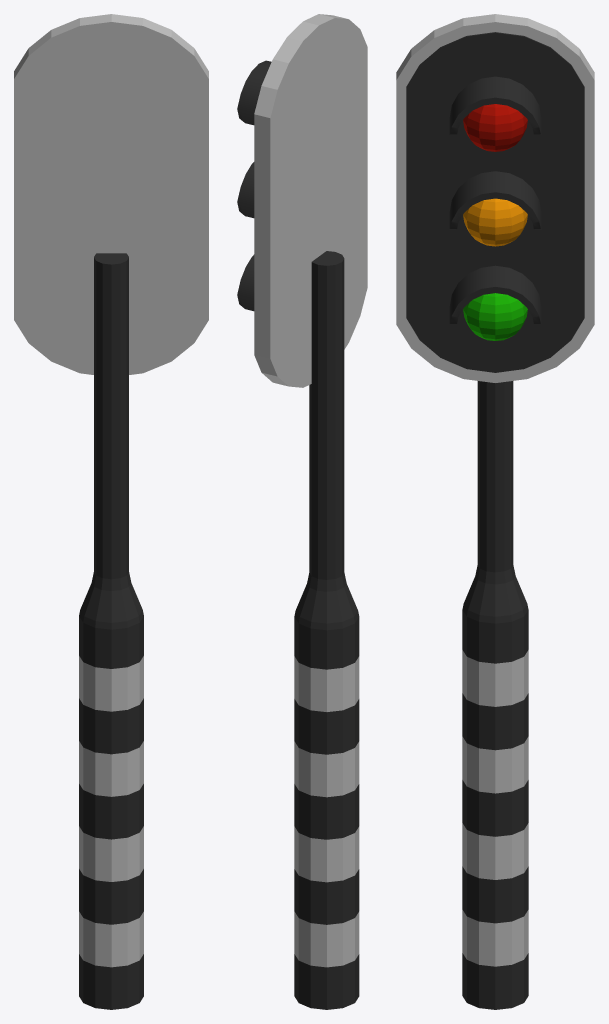
The model's file is Stoplicht.fbx.
3 views of the same model, side by side, from view 1: azimuth 90°, elevation 25°; view 2: azimuth 150°, elevation 25°; view 3: azimuth 270°, elevation 25° (orthographic).
Parts seen in each view (by area): view 1: pCylinder10, pCylinder9, pCylinder3, pCylinder7, pCylinder5, pCylinder1, pCylinder2, pCylinder6, pCylinder8, pCylinder4; view 2: pCylinder10, pCylinder9, pCylinder7, pCylinder2, pCylinder4, pCylinder1, pCylinder5, pCylinder3, pCylinder8, pCylinder6, pCylinder16, pCylinder14 (+1 smaller); view 3: pCylinder11, pCylinder9, pCylinder10, pCylinder6, pCylinder3, pCylinder4, pCylinder1, pCylinder8, pCylinder7, pCylinder2, pCylinder5, pCylinder15 (+5 smaller).
Boxes of the visible parts, box(x1,y1,x2,y2) form: pCylinder10: box(14, 14, 208, 374); pCylinder9: box(79, 253, 143, 668); pCylinder3: box(79, 869, 143, 924); pCylinder7: box(79, 698, 143, 754); pCylinder5: box(79, 784, 143, 839); pCylinder1: box(79, 954, 143, 1009); pCylinder2: box(79, 911, 143, 967); pCylinder6: box(79, 741, 143, 796); pCylinder8: box(79, 656, 143, 711); pCylinder4: box(79, 826, 143, 881); pCylinder10: box(254, 14, 367, 387); pCylinder9: box(294, 251, 359, 669); pCylinder7: box(294, 699, 359, 754); pCylinder2: box(294, 911, 359, 967); pCylinder4: box(294, 826, 359, 882); pCylinder1: box(294, 954, 359, 1009); pCylinder5: box(294, 784, 359, 839); pCylinder3: box(294, 869, 359, 924); pCylinder8: box(294, 656, 359, 711); pCylinder6: box(294, 741, 359, 797); pCylinder16: box(237, 60, 271, 125); pCylinder14: box(237, 254, 254, 311); pCylinder11: box(406, 32, 584, 372); pCylinder9: box(462, 381, 528, 663); pCylinder10: box(396, 14, 594, 382); pCylinder6: box(462, 736, 528, 793); pCylinder3: box(462, 866, 528, 923); pCylinder4: box(462, 823, 528, 879); pCylinder1: box(462, 953, 528, 1009); pCylinder8: box(462, 650, 528, 706); pCylinder7: box(462, 693, 528, 750); pCylinder2: box(462, 910, 528, 966); pCylinder5: box(462, 780, 528, 836); pCylinder15: box(449, 171, 541, 229).
Size of the model in its own units: 3.41 by 32.9 by 5.99.
